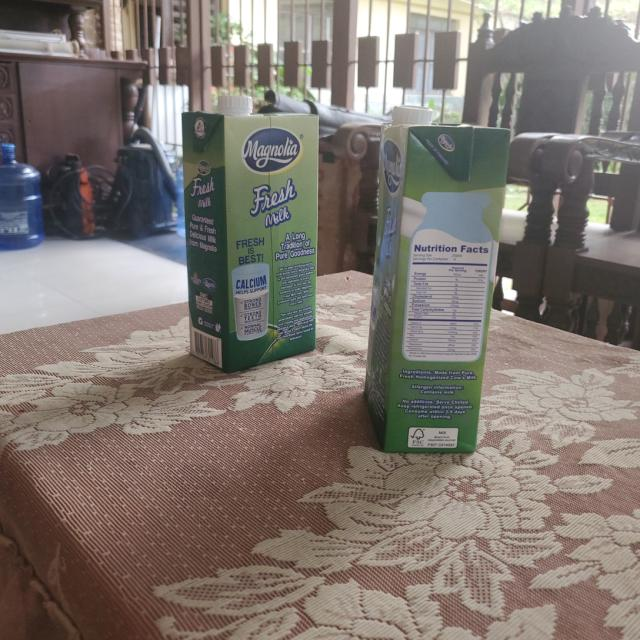milk: (367, 108, 509, 454), (184, 97, 322, 377)
